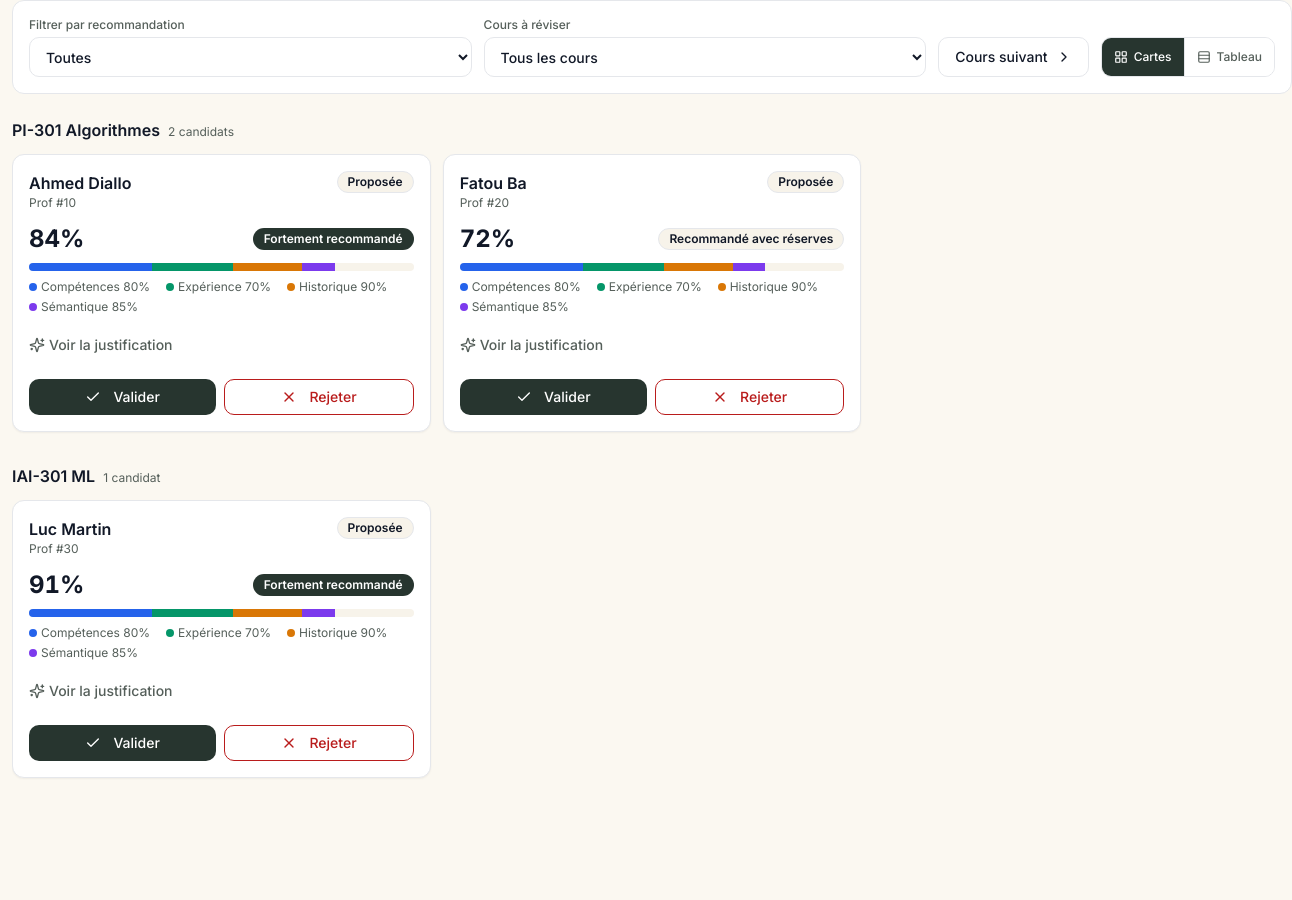
AffectationTable › filtre les propositions par niveau de recommandation
Select "Fortement recommandées" in the dropdown labelled "Filtrer par recommandation" at (250, 57), box [29, 37, 472, 77]
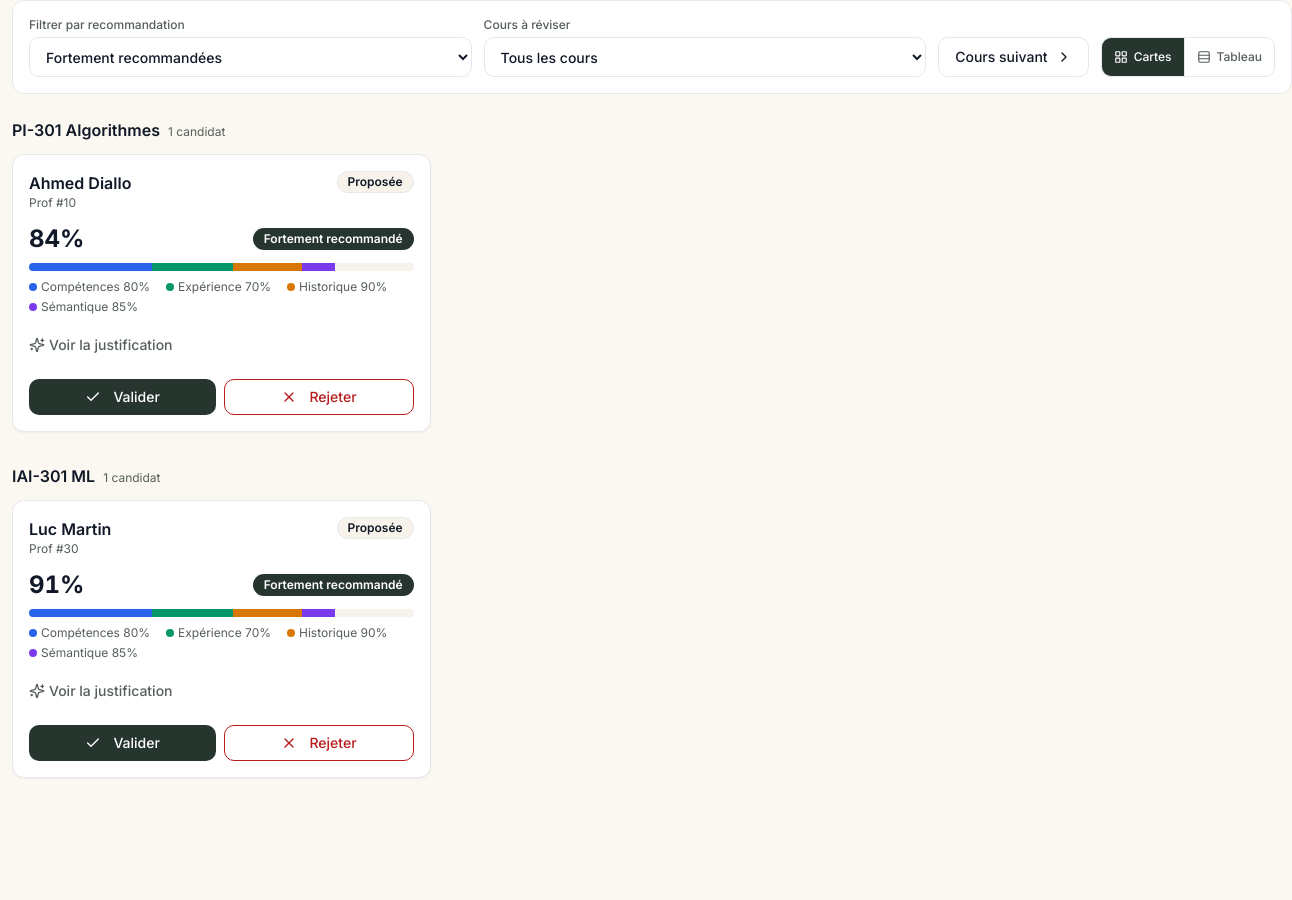
Expected: the text "Luc Martin" is shown, [29, 517, 111, 541]
Now the text "Fatou Ba" is gone
